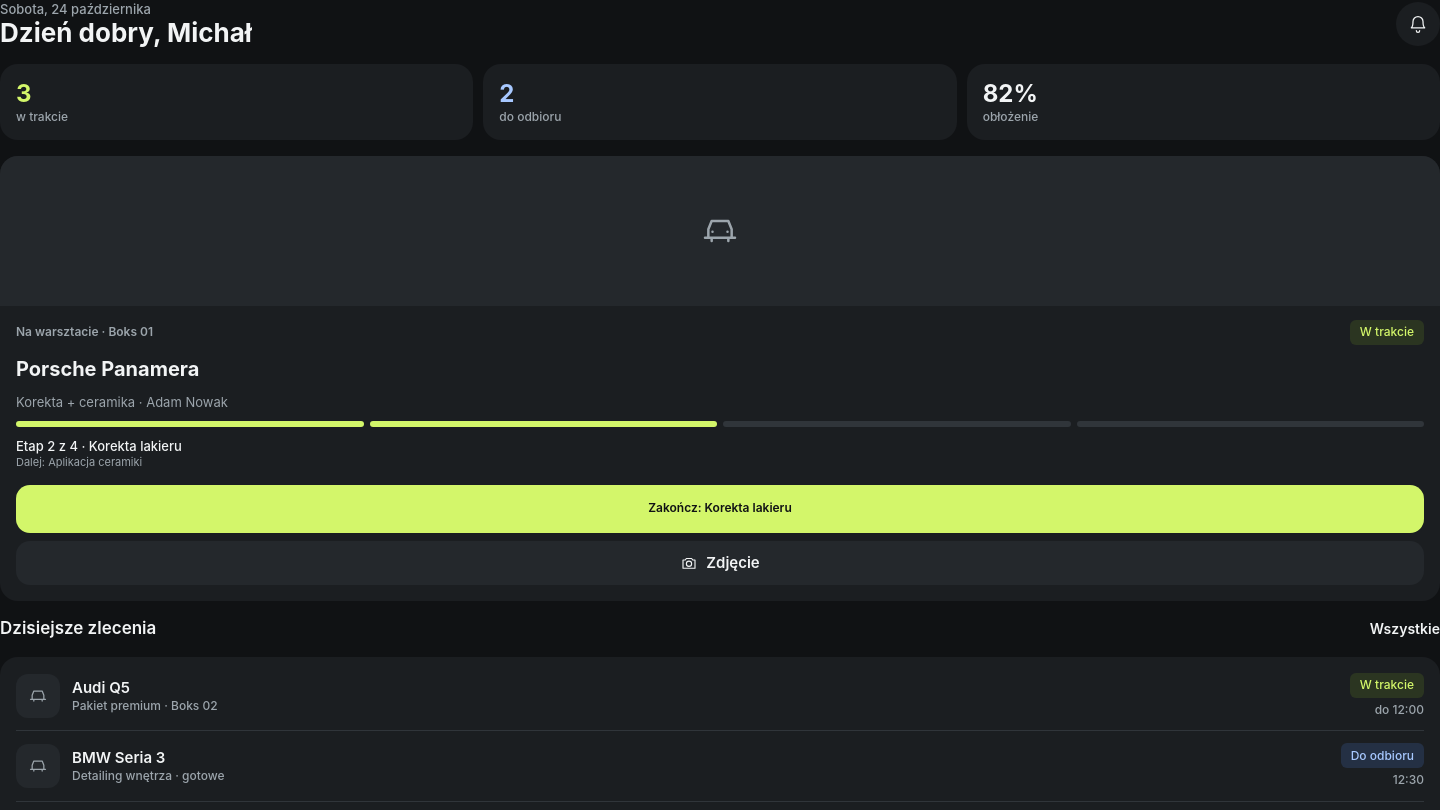
Test: keeps the order context on a failed stage advance
Click the button "Zakończ: Korekta lakieru" at (720, 509), box [16,485,1424,533]
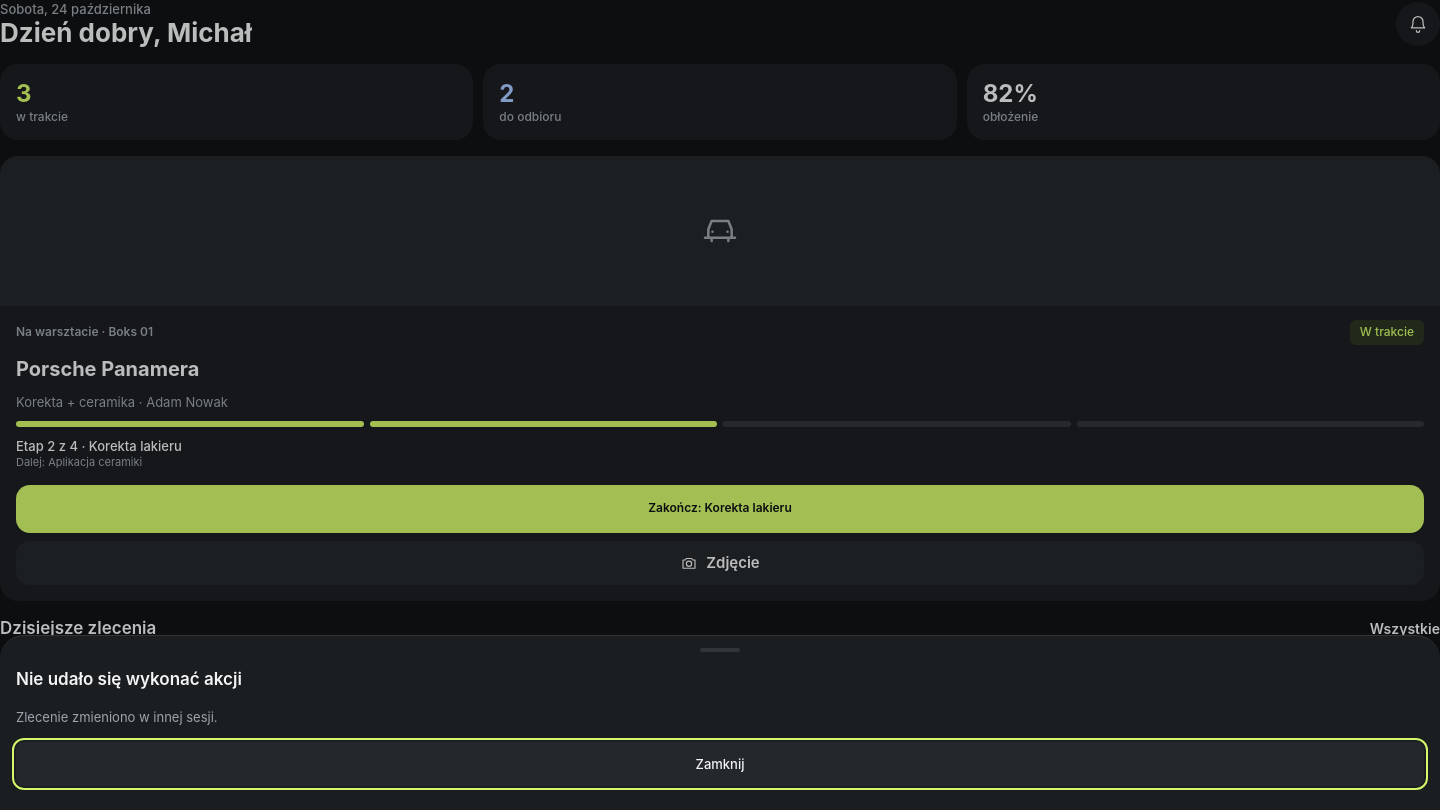
Expected: the text "Zlecenie zmieniono w innej sesji." is shown, [16,709,218,725]
